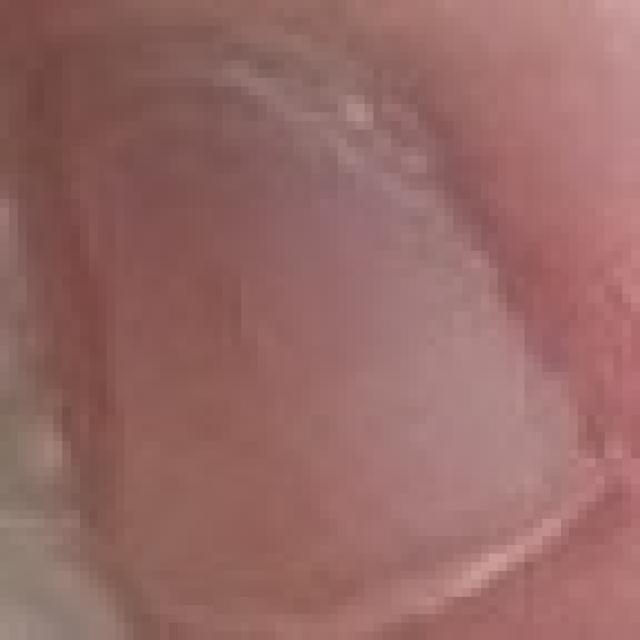Nail: (62, 45, 615, 640)
